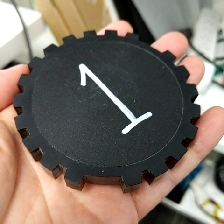gear: (12, 28, 202, 195)
missing: (64, 167, 142, 194), (124, 30, 177, 64)
